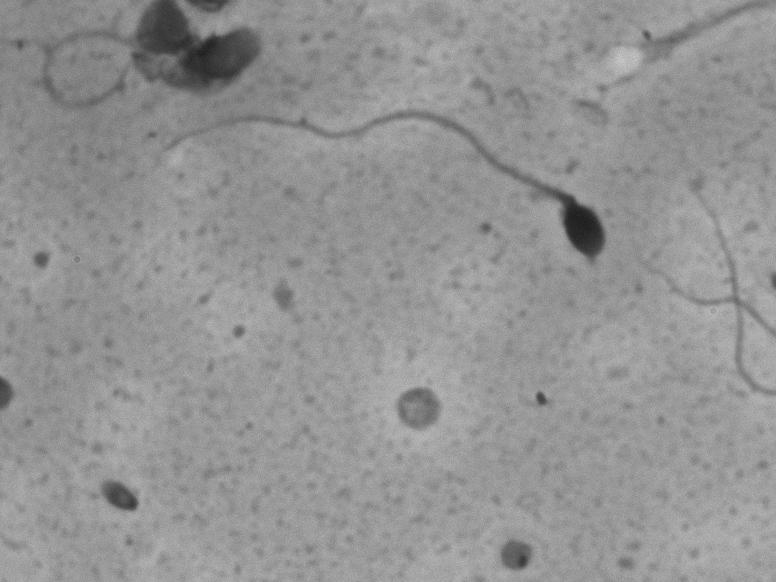Normal: (143, 92, 612, 291)
